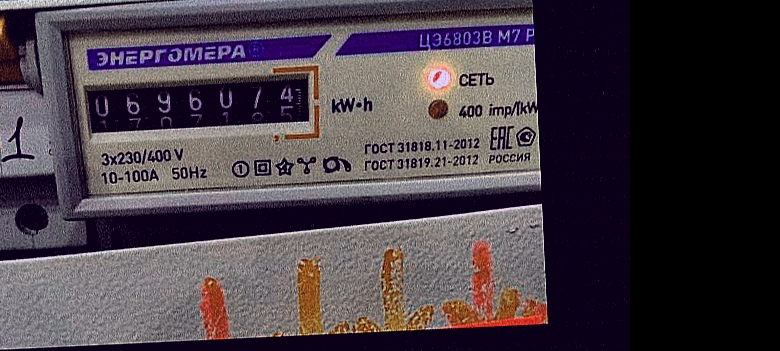0: (87, 94, 107, 120), (214, 85, 231, 112)
4: (275, 82, 292, 106)
5: (276, 106, 292, 124)
6: (120, 91, 140, 119), (182, 89, 200, 114)
7: (243, 85, 262, 112)
9: (150, 90, 170, 116)
screen: (68, 62, 323, 155)
